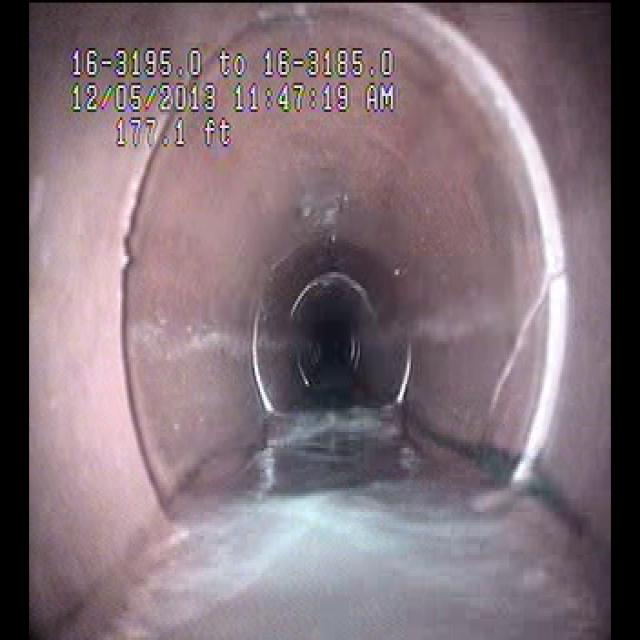Crack: (472, 246, 564, 434)
